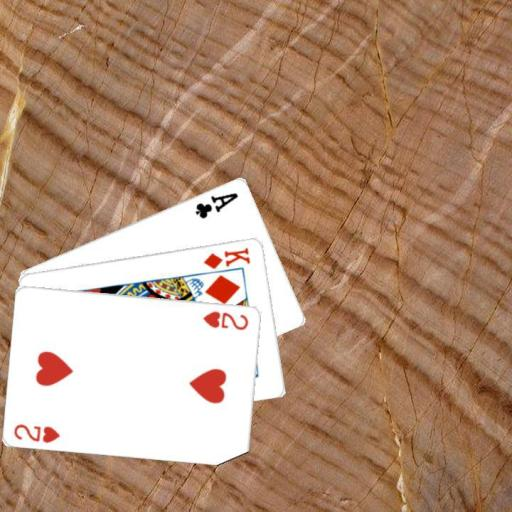2H: (11, 420, 62, 444), (200, 308, 250, 332)
AC: (192, 189, 240, 220)
KD: (201, 244, 253, 270)
